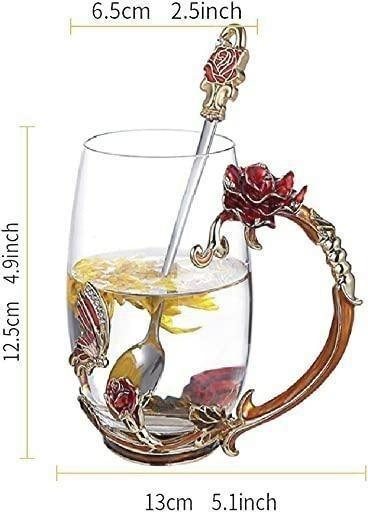glass-mug: (60, 120, 364, 473)
